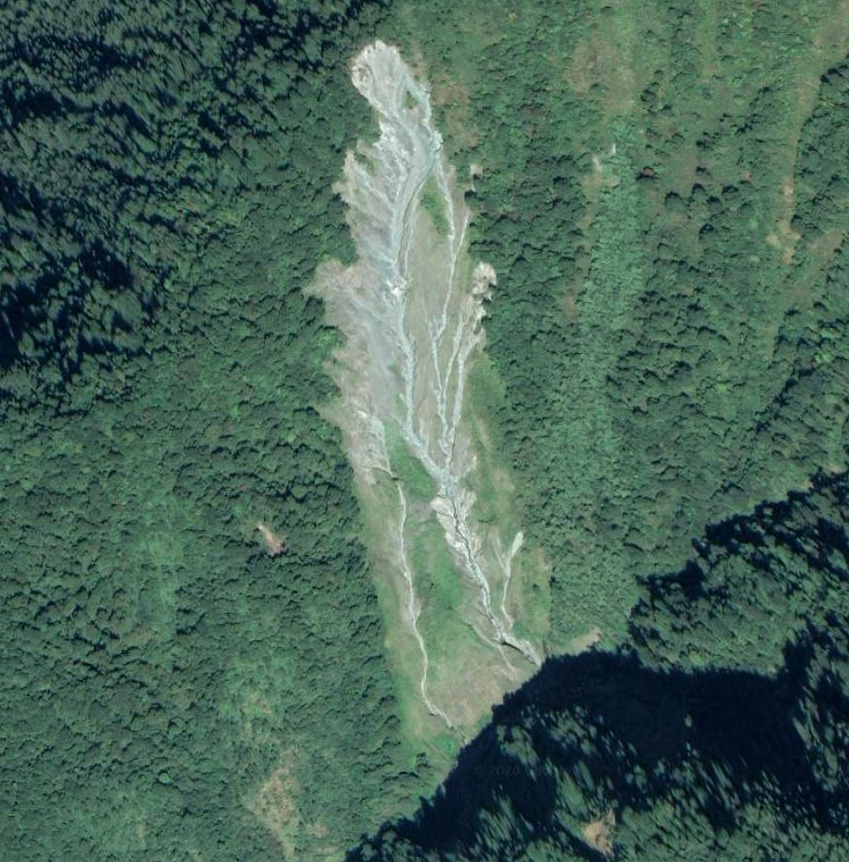slope: (290, 31, 560, 732)
